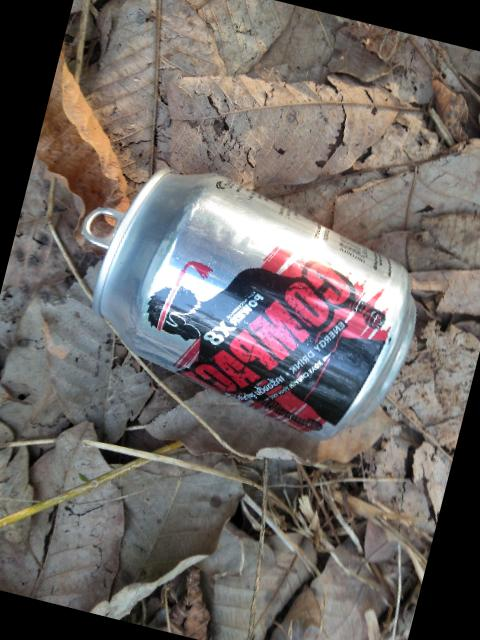metal: (92, 170, 414, 438)
